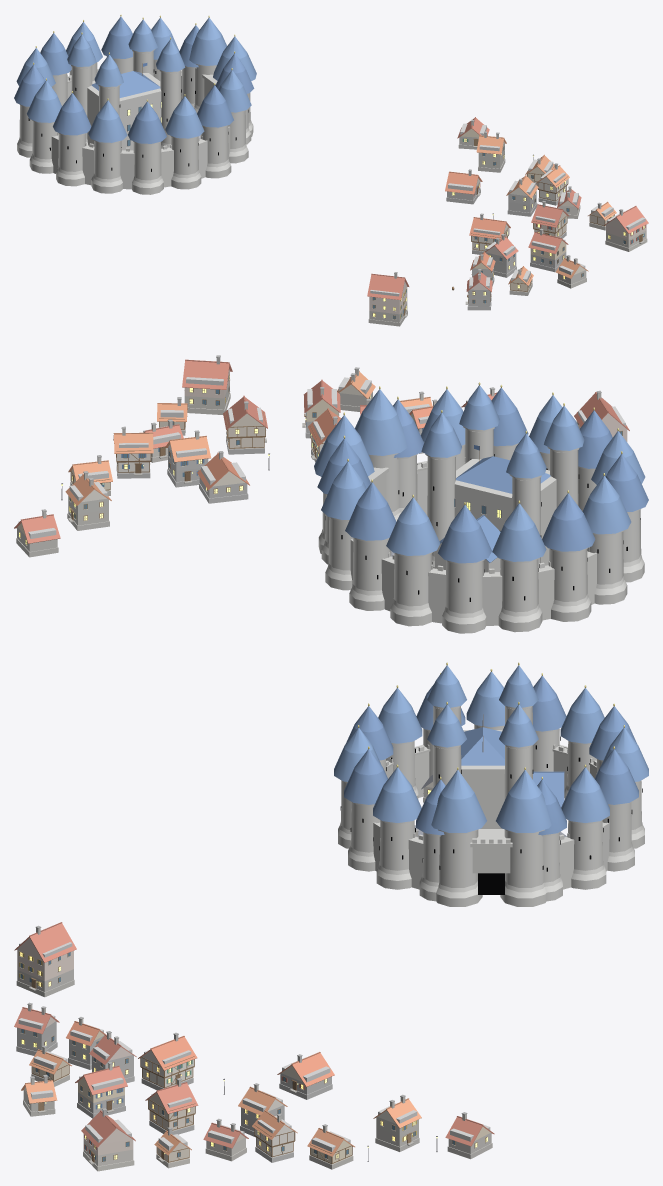
Rendered from struct_8_7.glb.
The picture shows the model from 3 angles, top to bottom: view 1: azimuth 30°, elevation 25°; view 2: azimuth 150°, elevation 25°; view 3: azimuth 270°, elevation 25°; orthographic projection. The views are drawn at different scales.
Parts seen in each view (by area): view 1: Landmarks, HousesNear, Occluder-occonly; view 2: Landmarks, HousesNear, Occluder-occonly; view 3: Landmarks, HousesNear, Occluder-occonly.
Part boxes in pixels (bbox=[...]): Landmarks: bbox=[14, 14, 533, 290]; HousesNear: bbox=[367, 117, 648, 326]; Occluder-occonly: bbox=[370, 123, 645, 296]; Landmarks: bbox=[46, 382, 648, 633]; HousesNear: bbox=[14, 355, 629, 557]; Occluder-occonly: bbox=[18, 377, 625, 538]; Landmarks: bbox=[223, 662, 648, 1161]; HousesNear: bbox=[14, 922, 494, 1171]; Occluder-occonly: bbox=[18, 942, 490, 1151].
Bounding box in the file's own units: 168 × 65.46 × 151.
